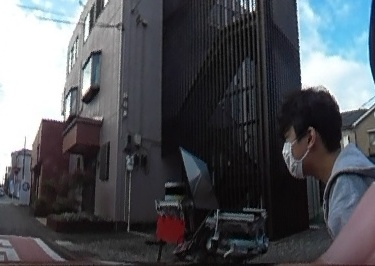person: (260, 78, 375, 266)
